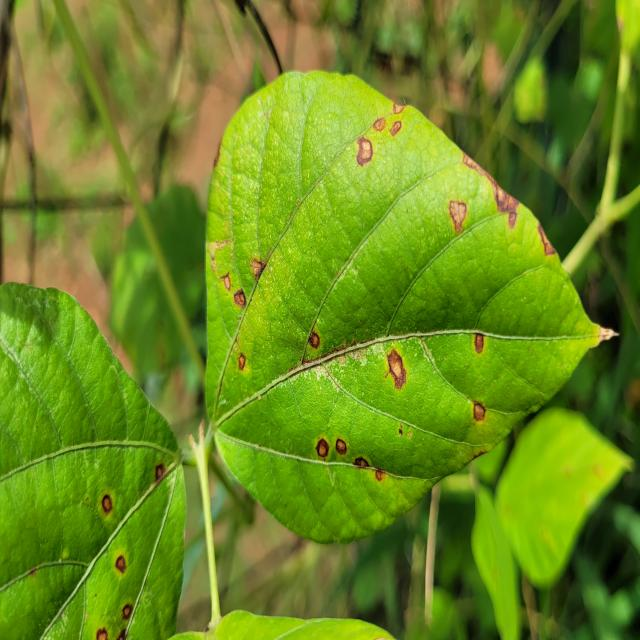Dolicos bean_cercospora leaf spot: (204, 74, 620, 544), (0, 274, 186, 640)
